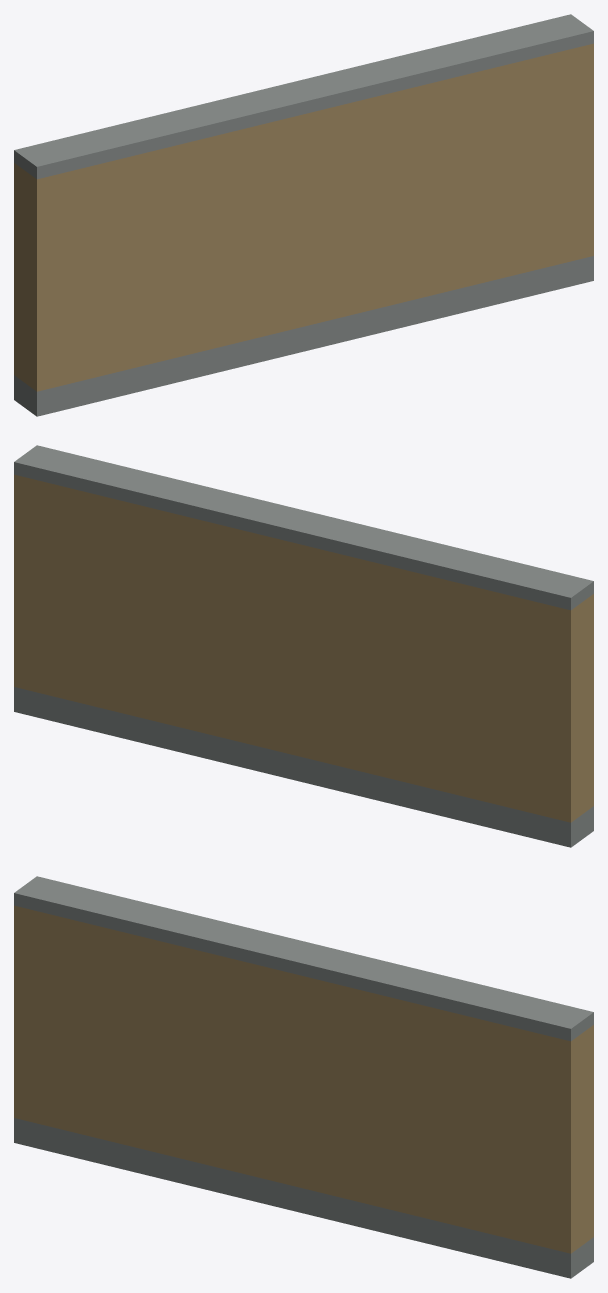
3 renders of one model, top to bottom at view 1: azimuth 30°, elevation 25°; view 2: azimuth 150°, elevation 25°; view 3: azimuth 330°, elevation 25°, orthographic.
Visible parts, largest first — view 1: shanqiang-a@1.0.0; view 2: shanqiang-a@1.0.0; view 3: shanqiang-a@1.0.0.
Boxes of the visible parts, x1,y1,x2,y2 form: shanqiang-a@1.0.0: (14,14,593,416); shanqiang-a@1.0.0: (14,445,593,847); shanqiang-a@1.0.0: (14,876,593,1278).
Size of the model in its own units: 7 by 3 by 0.5.
